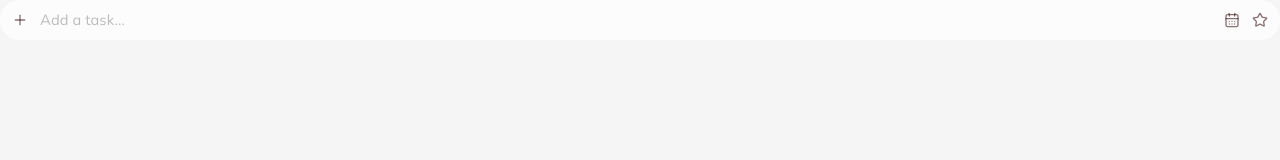
QuickAddTask › clears error when typing
Click the button named "Add task" at (20, 20), box [8,8,32,32]
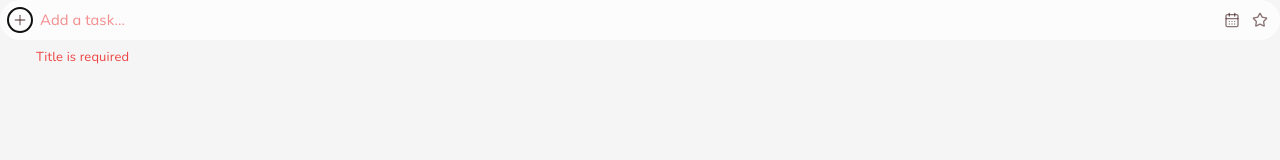
Expected: the text "Title is required" is shown, [36,48,129,66]
Type "a" into the field with placeholder "Add a task..." at (626, 20), box [36,10,1216,30]
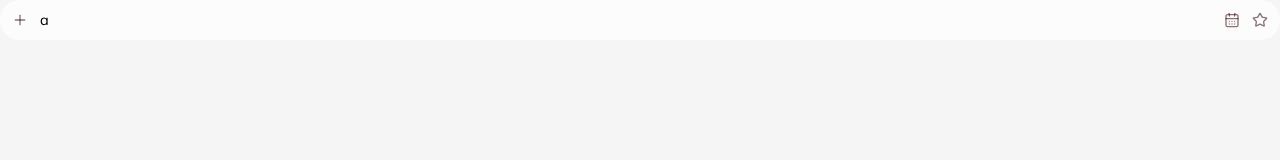
Expected: the text "Title is required" is gone
